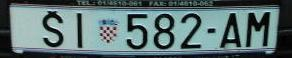-: (206, 26, 220, 35)
2: (181, 12, 202, 49)
5: (126, 11, 150, 50)
8: (154, 13, 176, 49)
A: (221, 12, 241, 48)
I: (74, 12, 87, 51)
M: (248, 12, 271, 47)
S: (42, 10, 65, 49)
